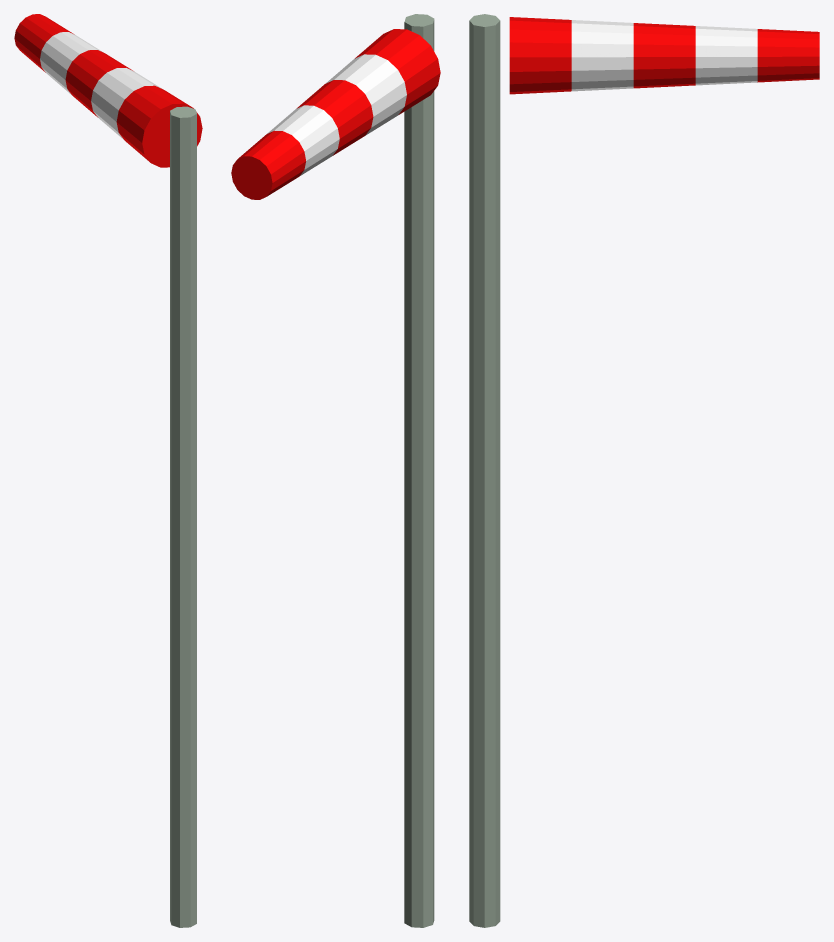
The model's file is windsock_1.Bi8hOMgk.glb.
3 views of the same model, side by side, from view 1: azimuth 30°, elevation 25°; view 2: azimuth 150°, elevation 25°; view 3: azimuth 270°, elevation 25° (orthographic). The views are drawn at different scales.
Parts seen in each view (by area): view 1: base, windsock; view 2: base, windsock; view 3: base, windsock.
Boxes of the visible parts, x1=… form: base: x1=170, y1=106, x2=196, y2=927; windsock: x1=14, y1=14, x2=202, y2=167; base: x1=404, y1=14, x2=434, y2=927; windsock: x1=231, y1=29, x2=440, y2=199; base: x1=469, y1=14, x2=500, y2=927; windsock: x1=509, y1=17, x2=819, y2=94.
Bounding box in the file's own units: 0.0312 × 0.4 × 0.141.
